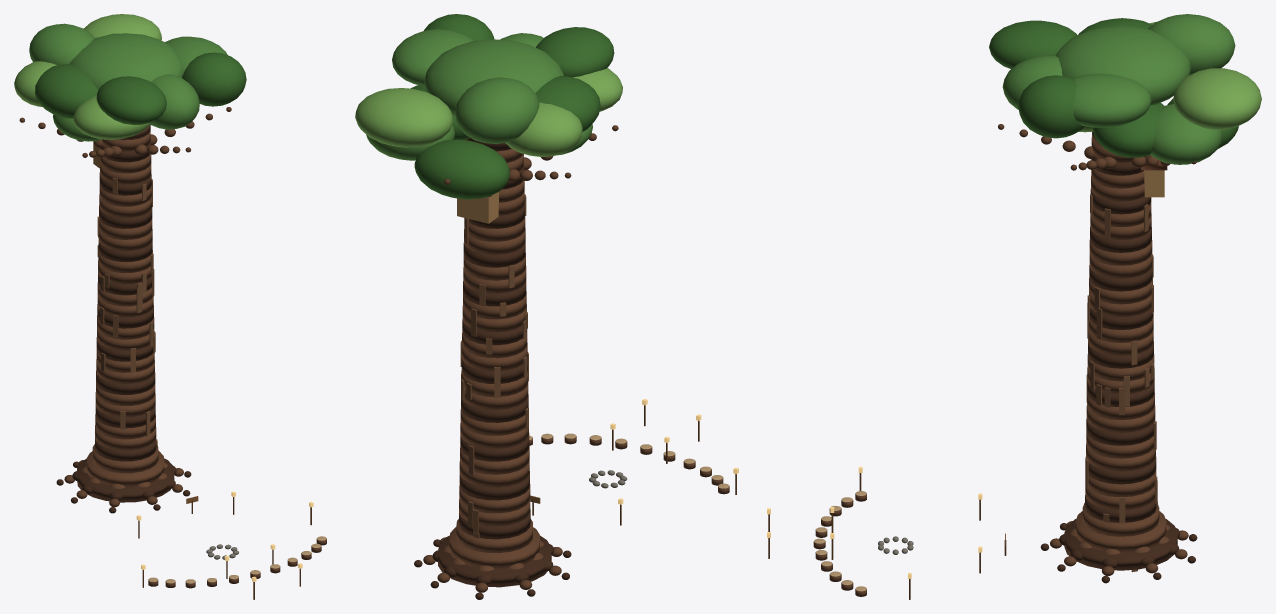
Rendered from forest.glb.
The picture shows the model from 3 angles, left to right: view 1: azimuth 30°, elevation 25°; view 2: azimuth 150°, elevation 25°; view 3: azimuth 270°, elevation 25°; orthographic projection. The views are drawn at different scales.
Parts seen in each view (by area): view 1: forest, canopy; view 2: forest, canopy; view 3: forest, canopy.
Boxes of the visible parts, x1,y1,x2,y2 form: forest: (19, 107, 326, 599); canopy: (14, 14, 246, 141); forest: (414, 125, 738, 599); canopy: (355, 14, 622, 199); forest: (767, 124, 1197, 599); canopy: (989, 14, 1261, 164).
Bounding box in the file's own units: 18.28 × 40.78 × 35.15.
